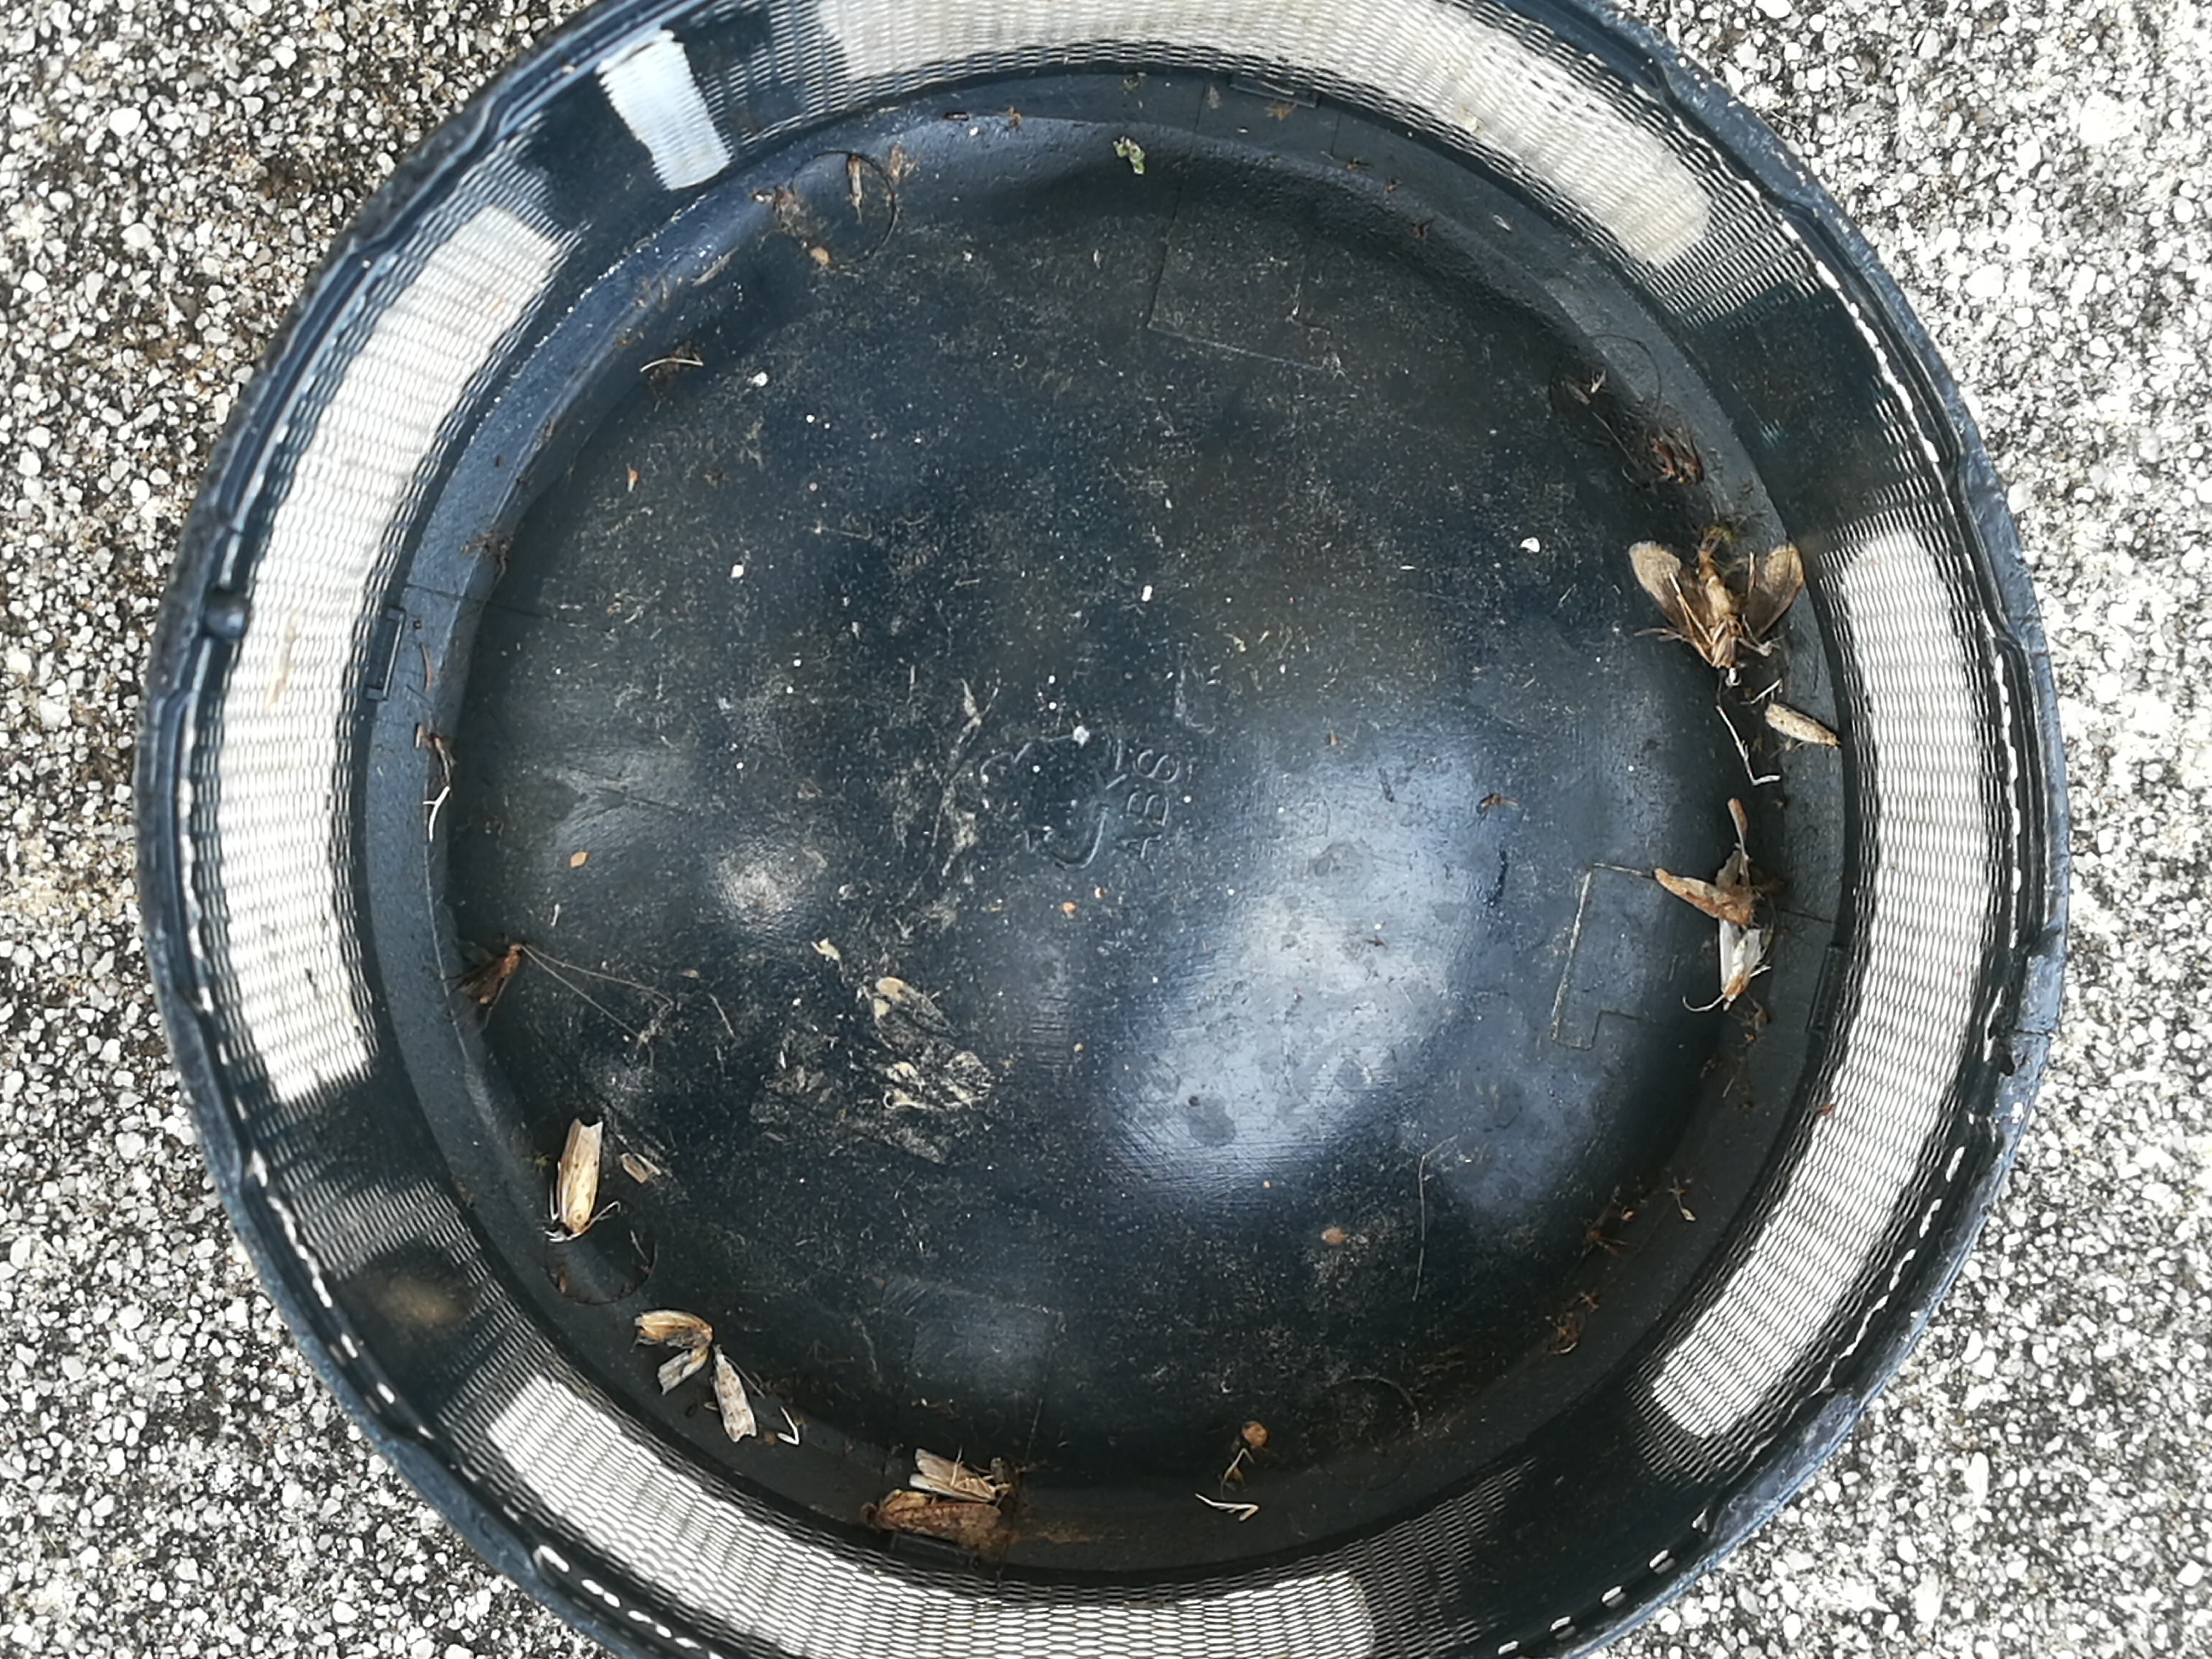mosquito: (448, 943, 519, 1032), (559, 1117, 603, 1237), (907, 1452, 998, 1504), (714, 1347, 756, 1441), (1766, 702, 1838, 748)
moth: (1630, 540, 1799, 676), (880, 1490, 1000, 1547), (634, 1310, 711, 1392), (1719, 920, 1761, 1004)
